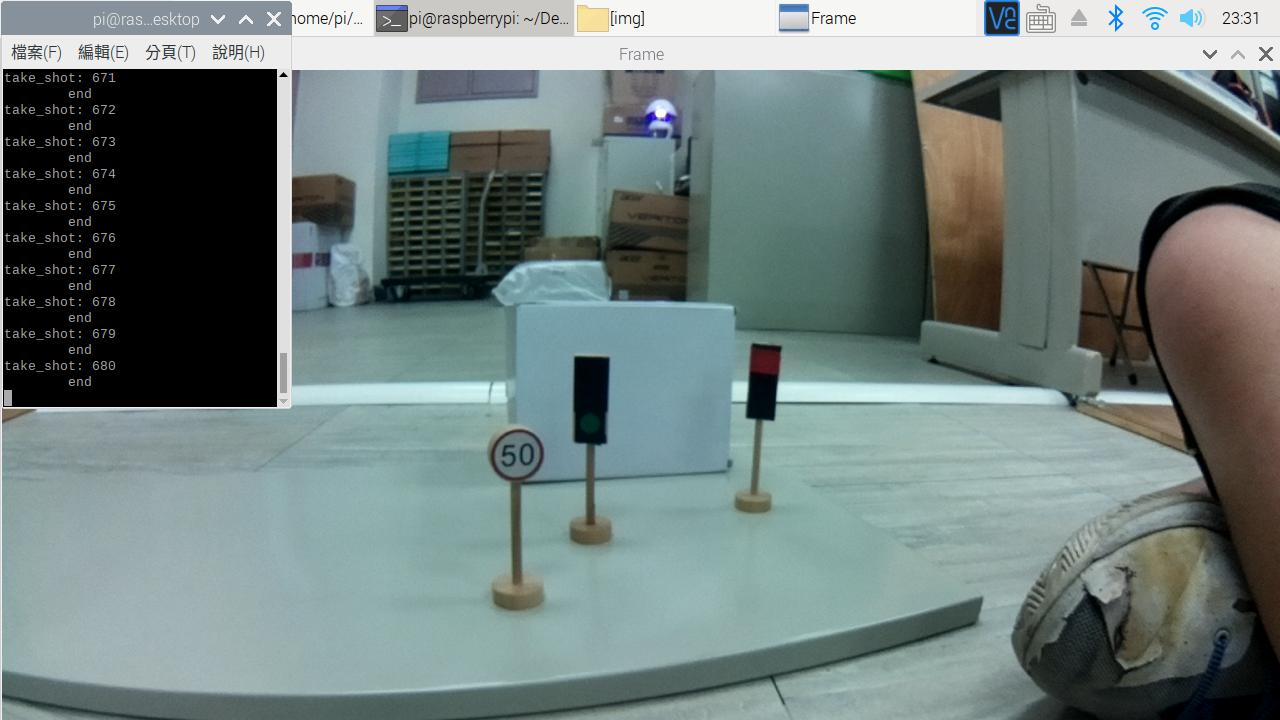Green: (552, 349, 614, 451)
Red: (733, 331, 796, 431)
Speed50: (483, 420, 547, 487)
